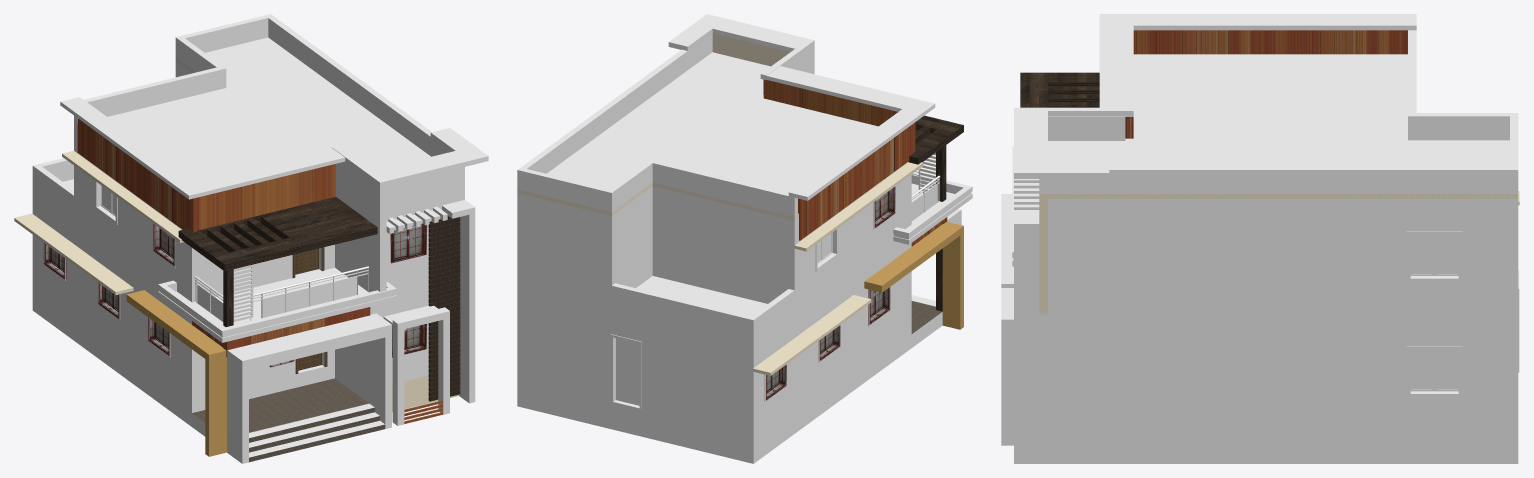
3 views of the same model, side by side, from view 1: azimuth 30°, elevation 25°; view 2: azimuth 150°, elevation 25°; view 3: azimuth 270°, elevation 25° (orthographic). The views are drawn at different scales.
Parts seen in each view (by area): view 1: Air Terminals 1 Air Terminals 1 [193729], Roof Soffit 5" [188828], Basic Wall Generic - 8" [184243], Roof Soffit 9" [198913], Floor 3' [184534], Basic Wall Generic - 8" [184203], Basic Wall Generic - 8" [188262], Basic Wall Generic - 8" [199298], Basic Wall Generic - 8" [191764], Basic Wall Generic - 8" [191610], Floor 1'6" [184679], Basic Wall Generic - 8" [191846] (+21 smaller); view 2: Roof Soffit 5" [188828], Basic Wall Generic - 8" [184148], Air Terminals 1 Air Terminals 1 [193729], Basic Wall Generic - 8" [188305], Floor 3' [184534], Basic Wall Generic - 8" [184243], Basic Wall Generic - 8" [188681], Basic Wall Generic - 8" [188262], Basic Wall Generic - 8" [191764], Basic Wall Generic - 8" [191610], Basic Wall Generic - 8" [188364], Roof Soffit Generic - 4" [184738] (+18 smaller); view 3: Basic Wall Generic - 8" [184177], Roof Soffit 5" [188828], Basic Wall Generic - 8" [188548], Air Terminals 1 Air Terminals 1 [193729], Floor 3' [184534], Basic Wall Generic - 8" [188122], Basic Wall Generic - 8" [191764], Basic Wall Generic - 8" [191610], Casement Dbl with Trim 48" x 48" [187891], Casement Dbl with Trim 48" x 48" [189005], Roof Soffit 9" [198913], Basic Wall Generic - 8" [191812] (+6 smaller).
Boxes of the visible parts, x1,y1,x2,y2 form: Air Terminals 1 Air Terminals 1 [193729]: (60,97,488,463); Roof Soffit 5" [188828]: (77,37,464,198); Basic Wall Generic - 8" [184243]: (36,191,197,398); Roof Soffit 9" [198913]: (178,197,377,271); Floor 3' [184534]: (32,283,458,426); Basic Wall Generic - 8" [184203]: (366,179,464,389); Basic Wall Generic - 8" [188262]: (74,126,188,299); Basic Wall Generic - 8" [199298]: (199,164,335,229); Basic Wall Generic - 8" [191764]: (265,14,464,180); Basic Wall Generic - 8" [191610]: (77,118,199,232); Floor 1'6" [184679]: (192,378,369,436); Basic Wall Generic - 8" [191846]: (74,67,220,127); Roof Soffit 5" [188828]: (517,52,878,220); Basic Wall Generic - 8" [184148]: (517,286,756,435); Air Terminals 1 Air Terminals 1 [193729]: (668,14,972,329); Basic Wall Generic - 8" [188305]: (652,186,788,303); Floor 3' [184534]: (517,321,911,463); Basic Wall Generic - 8" [184243]: (757,241,911,433); Basic Wall Generic - 8" [188681]: (517,193,605,306); Basic Wall Generic - 8" [188262]: (788,162,908,311); Basic Wall Generic - 8" [191764]: (517,33,712,193); Basic Wall Generic - 8" [191610]: (798,122,915,240); Basic Wall Generic - 8" [188364]: (606,186,652,307); Roof Soffit Generic - 4" [184738]: (517,183,954,343); Basic Wall Generic - 8" [184177]: (1039,314,1509,429); Roof Soffit 5" [188828]: (1039,54,1518,198); Basic Wall Generic - 8" [188548]: (1187,199,1509,314); Air Terminals 1 Air Terminals 1 [193729]: (1001,14,1416,463); Floor 3' [184534]: (1039,429,1518,463); Basic Wall Generic - 8" [188122]: (1048,199,1179,314); Basic Wall Generic - 8" [191764]: (1039,166,1518,198); Basic Wall Generic - 8" [191610]: (1133,30,1407,54); Casement Dbl with Trim 48" x 48" [187891]: (1406,346,1462,397); Casement Dbl with Trim 48" x 48" [189005]: (1406,231,1462,281); Roof Soffit 9" [198913]: (1020,72,1099,107); Basic Wall Generic - 8" [191812]: (1408,113,1509,140).
Size of what is drawn, in the model's own units: 9.19 by 7.91 by 12.43.
Materials: 25 (5 with a texture image).
